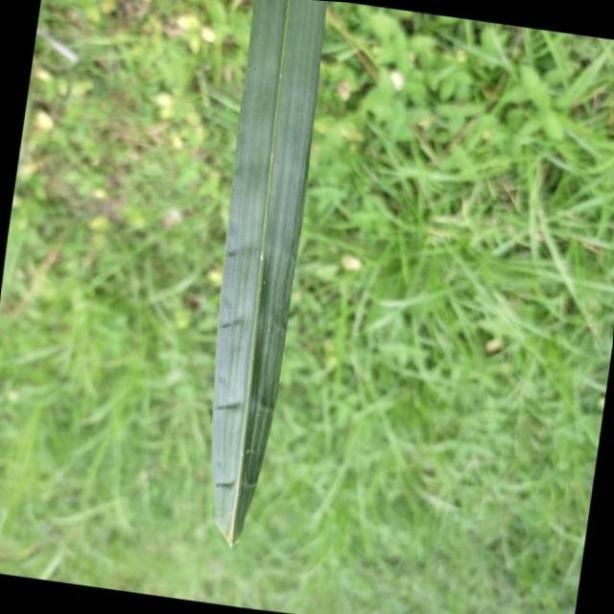Boron: (205, 0, 322, 543)
